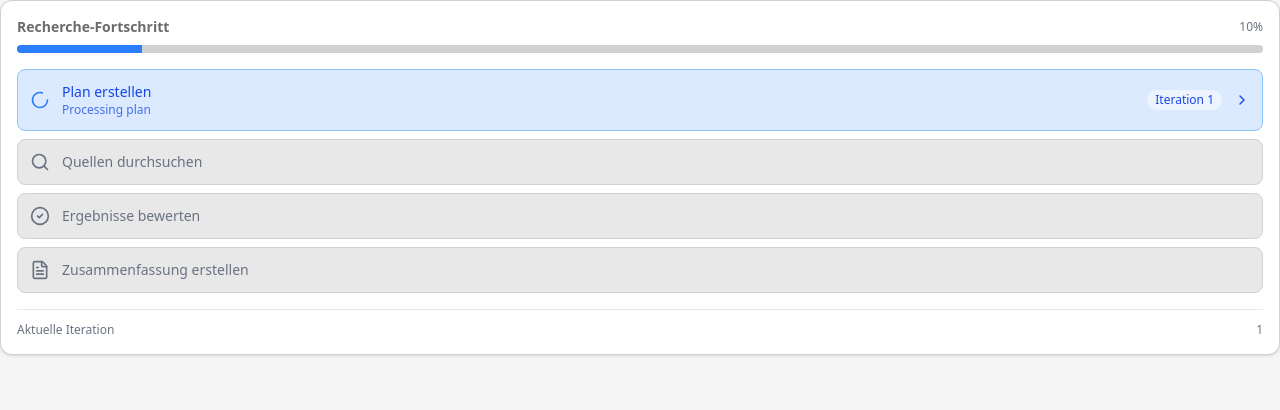
Test case: ResearchProgressTracker › expandable details › expands phase details when clicked
This screenshot has width=1280, height=410.
Click the button "Plan erstellen Processing plan Iteration 1".
click(107, 92)  # box left=18, top=70, right=1262, bottom=130
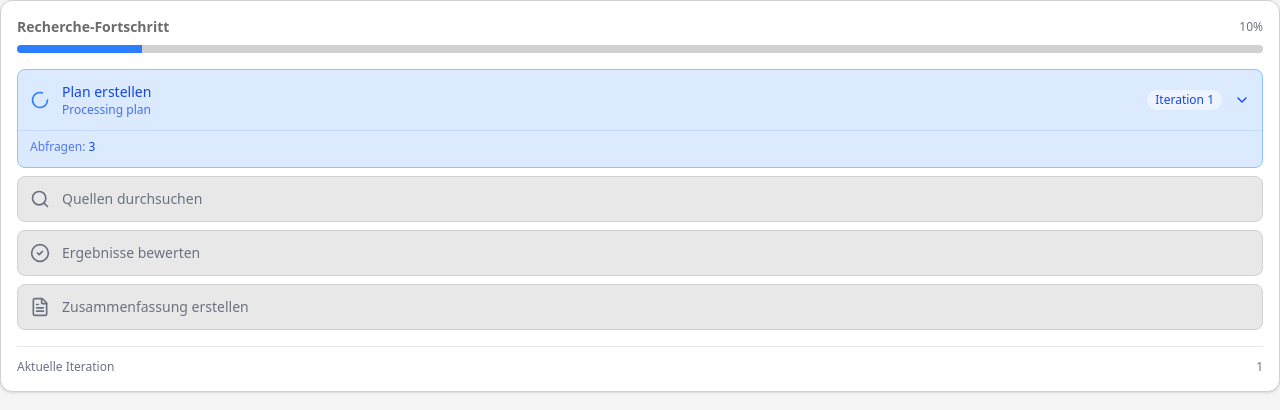
Result: the text "Abfragen:" is shown at left=30, top=138, right=85, bottom=155
Result: the text "3" is shown at left=88, top=138, right=95, bottom=155
